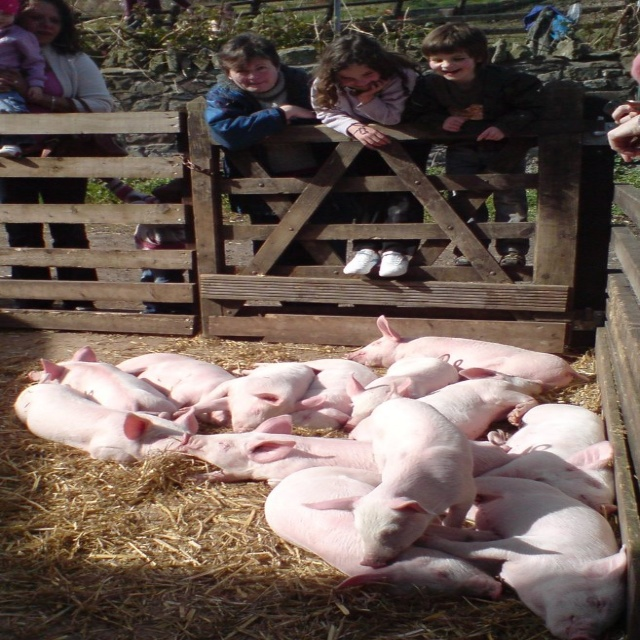Pig: (12, 313, 628, 639)
